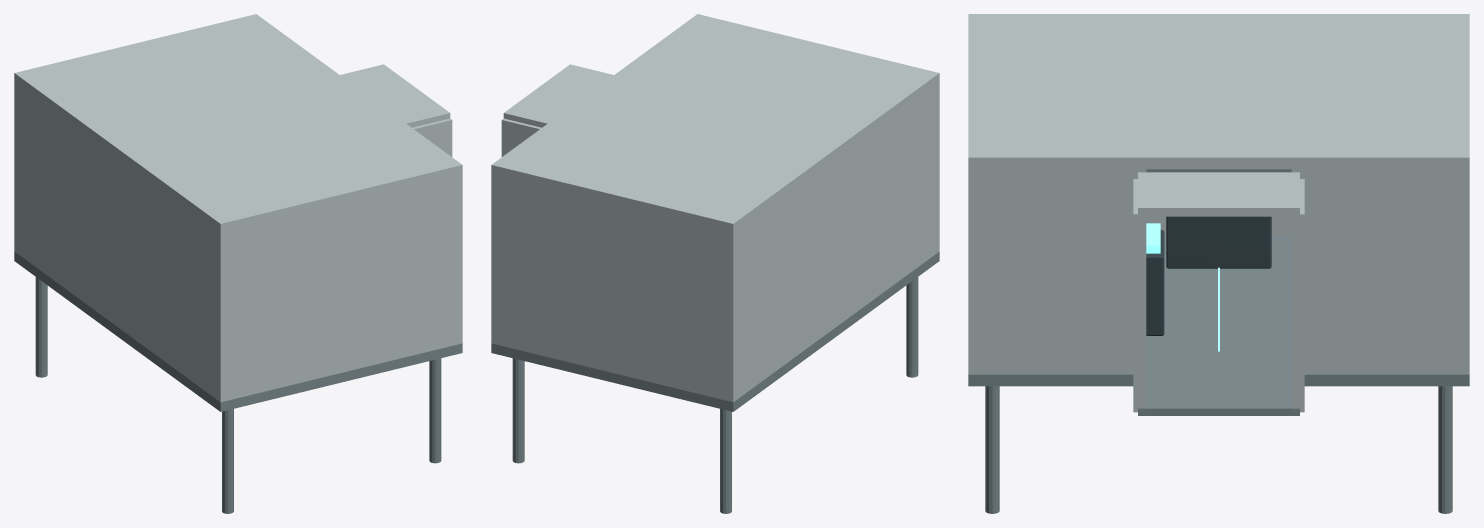
File: resource-lab-01.glb
The picture shows the model from 3 angles, left to right: view 1: azimuth 30°, elevation 25°; view 2: azimuth 150°, elevation 25°; view 3: azimuth 270°, elevation 25°; orthographic projection. The views are drawn at different scales.
Parts seen in each view (by area): view 1: lab ceiling, pressure wall.001, west wall, lab floor, connector ceiling, foundation support.003, foundation support, foundation support.001, sealed connector.001; view 2: lab ceiling, pressure wall, west wall, lab floor, connector ceiling, foundation support.002, foundation support.001, foundation support, sealed connector; view 3: lab ceiling, east doorway wall, east doorway wall.001, lab floor, connector ceiling, connector floor, microscope bench, sealed connector.001, sealed connector, pressure wall, pressure wall.001, foundation support.002 (+4 smaller).
Boxes of the visible parts, x1,y1,x2,y2 form: lab ceiling: (14,14,462,233); pressure wall.001: (219,174,462,402); west wall: (15,83,219,401); lab floor: (14,251,462,411); connector ceiling: (340,64,450,127); foundation support.003: (429,358,441,463); foundation support: (35,277,47,377); foundation support.001: (222,409,233,513); sealed connector.001: (412,118,452,156); lab ceiling: (491,14,939,233); pressure wall: (491,174,734,402); west wall: (734,83,938,401); lab floor: (491,251,939,411); connector ceiling: (503,64,613,127); foundation support.002: (512,358,524,463); foundation support.001: (906,277,918,377); foundation support: (720,409,731,513); sealed connector: (501,118,541,156); lab ceiling: (968,14,1469,169); east doorway wall: (1291,169,1456,373); east doorway wall.001: (981,169,1146,373); lab floor: (968,236,1469,386); connector ceiling: (1138,172,1299,216); connector floor: (1138,367,1299,415); microscope bench: (1166,216,1271,268); sealed connector.001: (1133,179,1146,412); sealed connector: (1291,179,1304,412); pressure wall: (1456,169,1469,374); pressure wall.001: (968,169,981,374); foundation support.002: (1438,386,1452,513).
Bounding box in the file's own units: 5.2 × 4.96 × 6.2.
